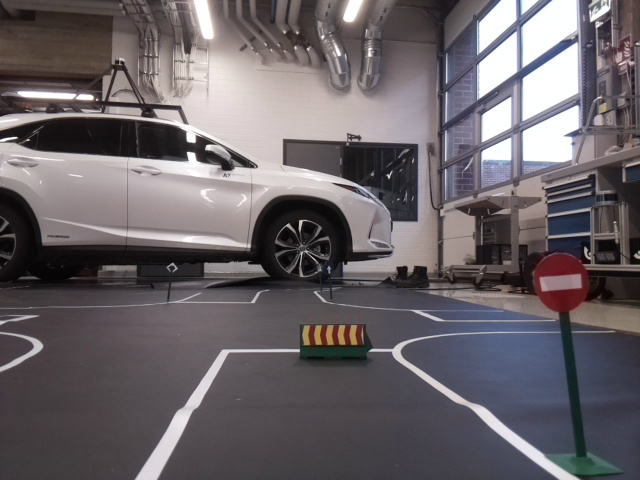ClosedRoadStand: (298, 324, 367, 346)
NoEntry: (531, 254, 591, 309)
